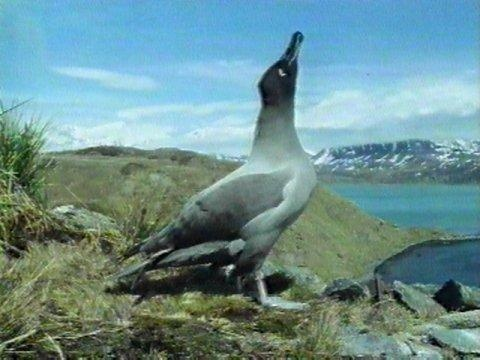bird: (113, 29, 322, 312)
